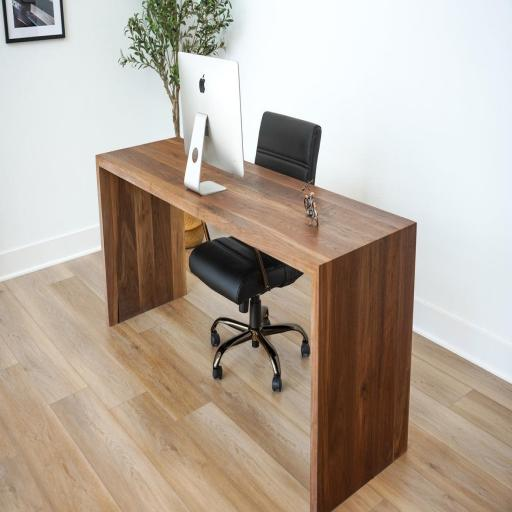table: (95, 131, 417, 487)
